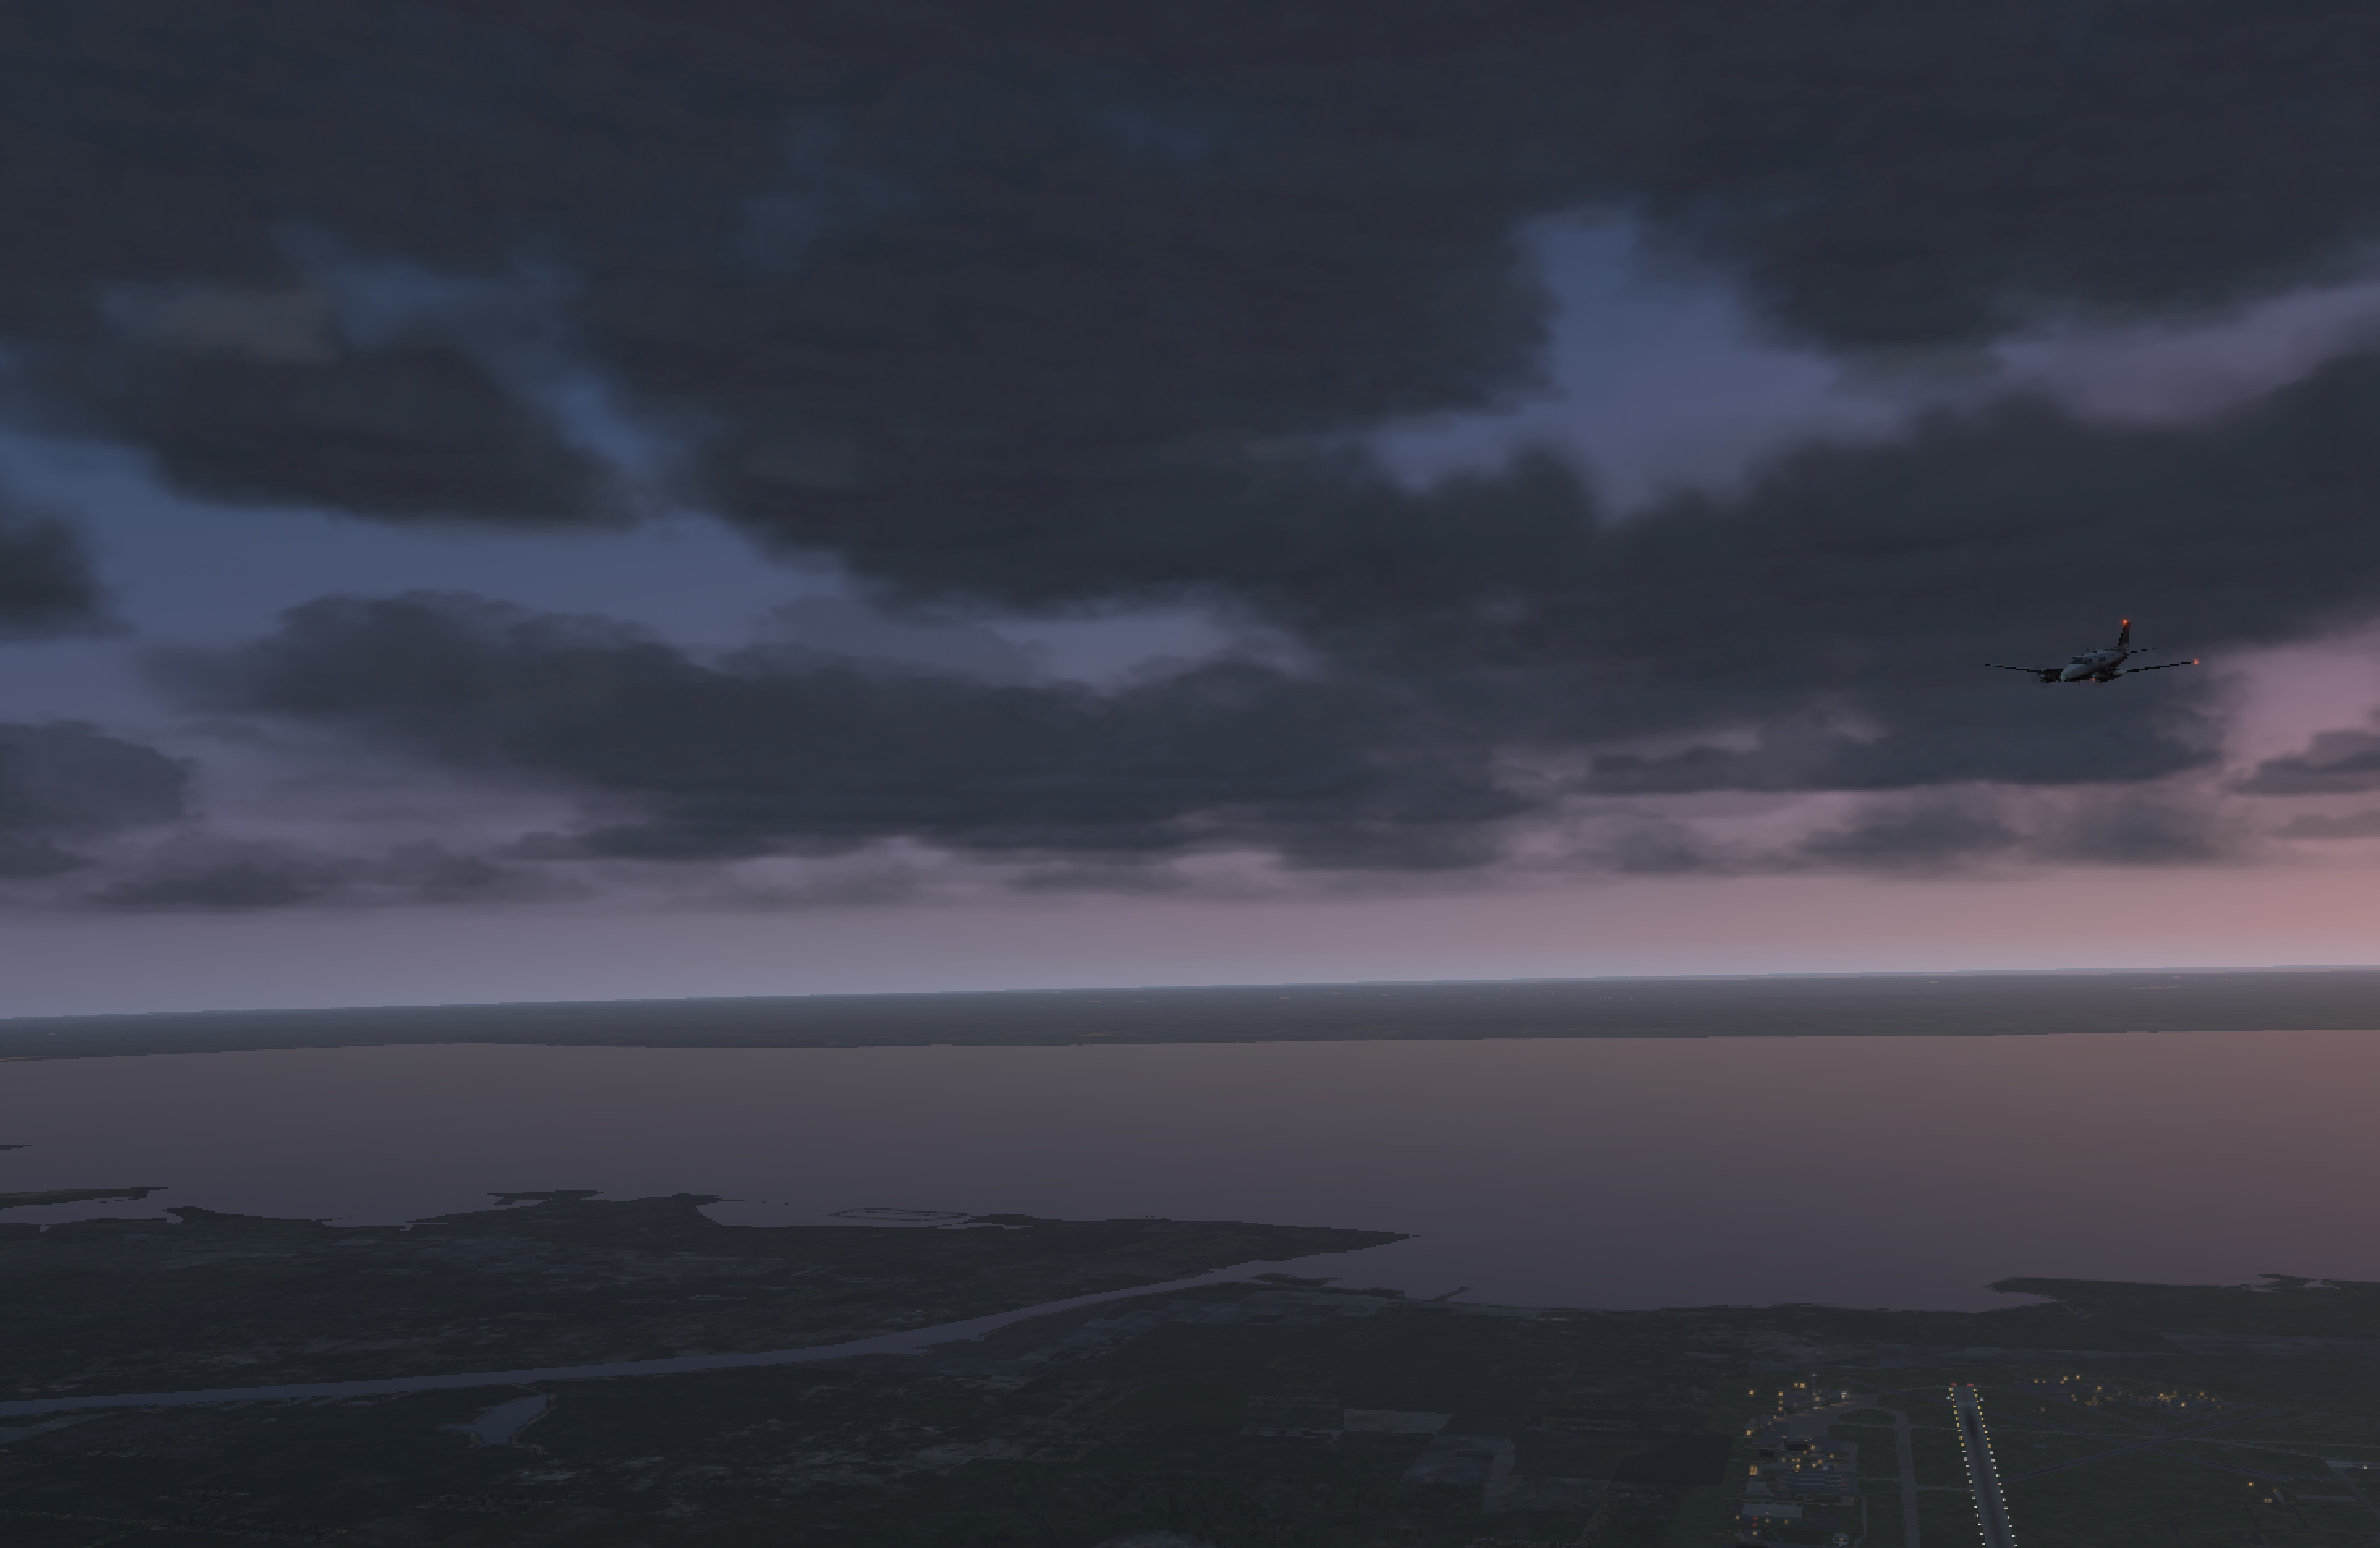aircraft: (1986, 640, 2186, 715)
